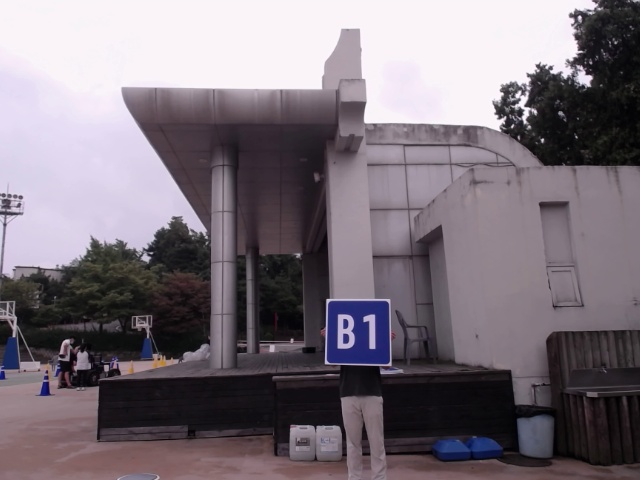delivery_b1: (326, 299, 391, 366)
